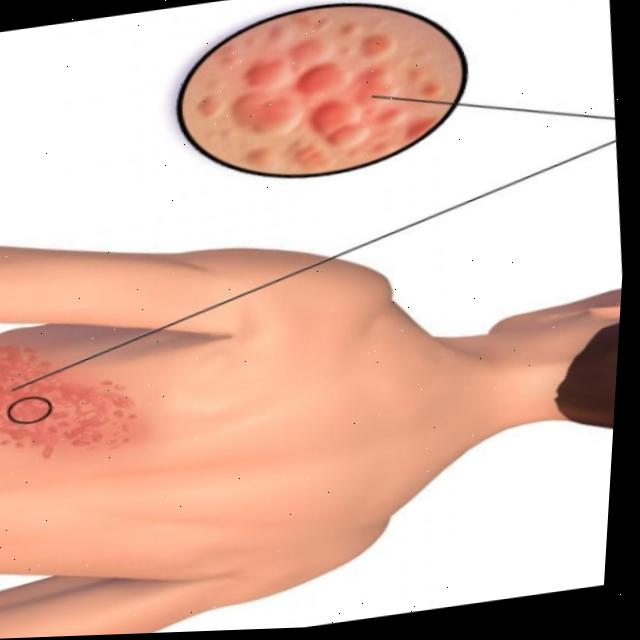Shingles: (186, 0, 455, 186), (0, 328, 147, 467)
